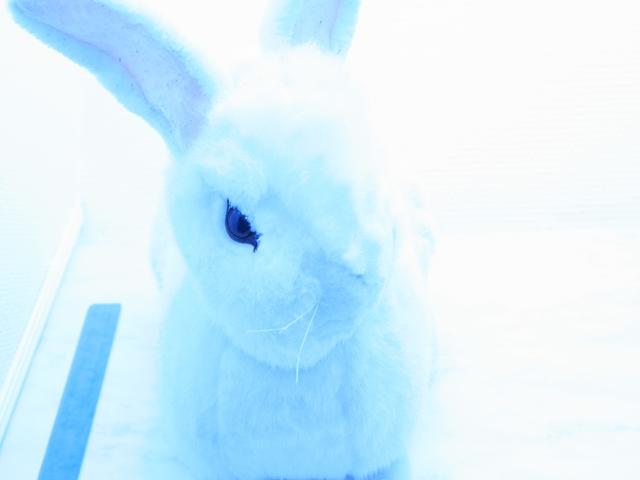rabbit: (67, 15, 459, 480)
